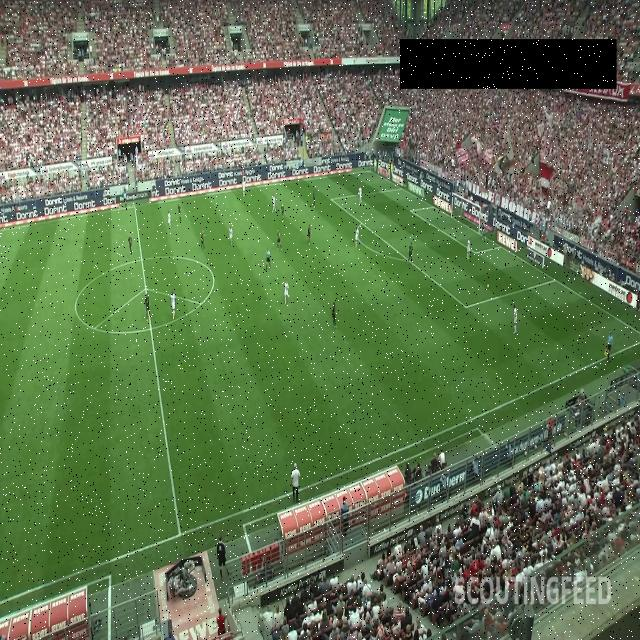Ball: (487, 284, 489, 289)
GoalKeeper: (480, 220, 487, 242)
Referee: (605, 329, 613, 362), (264, 248, 271, 272), (122, 190, 128, 208)
TEAM 1: (145, 293, 151, 323), (331, 303, 337, 328), (276, 229, 282, 251), (127, 235, 133, 256), (408, 241, 413, 265), (200, 230, 206, 250), (280, 205, 285, 223), (307, 225, 311, 246), (178, 203, 182, 223), (312, 191, 316, 210)
TEAM 2: (169, 291, 177, 320), (512, 303, 518, 334), (283, 280, 290, 306), (354, 227, 360, 249), (228, 227, 234, 246), (167, 210, 172, 231), (467, 239, 472, 259), (242, 179, 247, 198), (272, 195, 276, 213), (358, 187, 362, 204)
